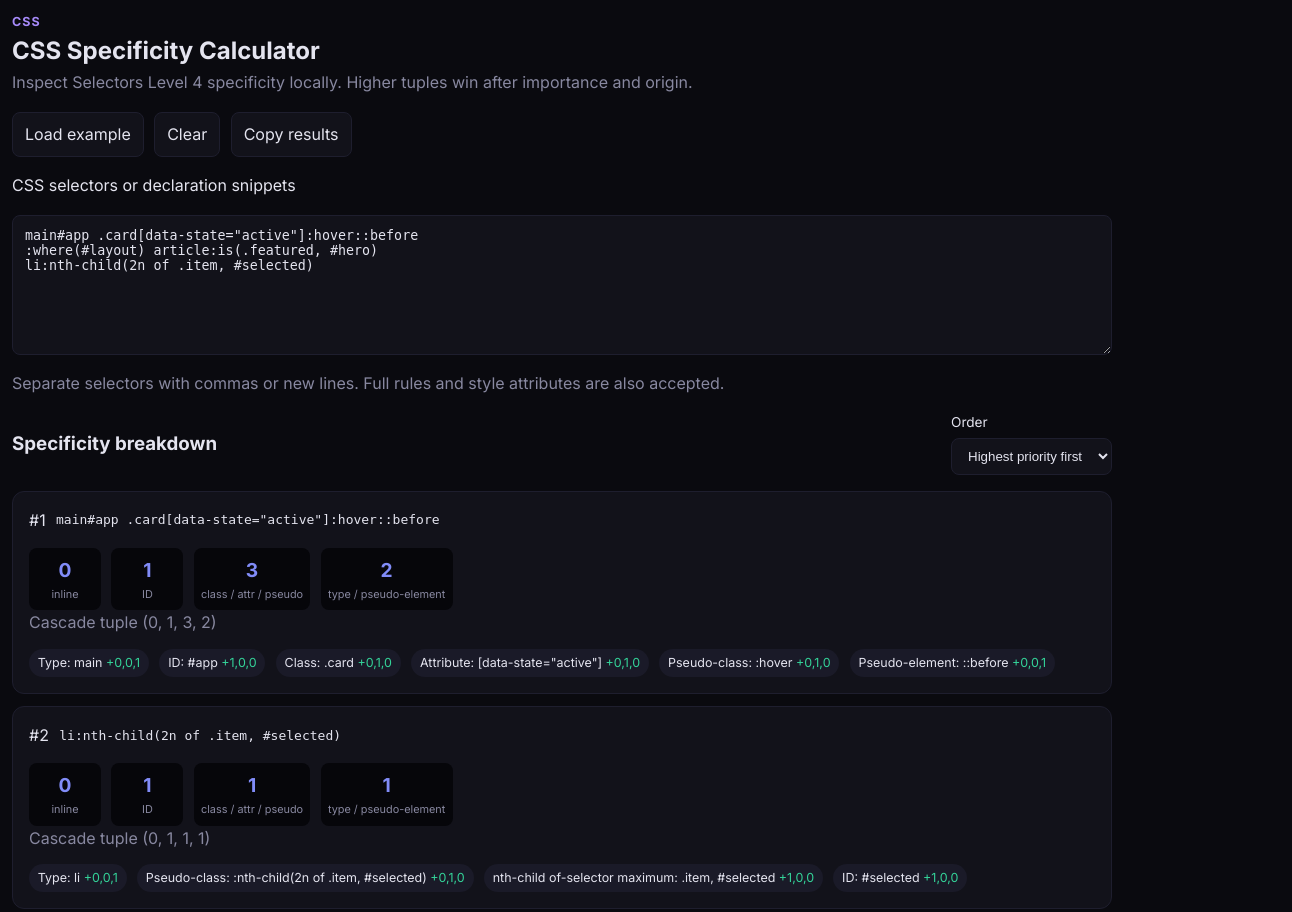
it: CssSpecificityTool › clears input and announces the action through its live region
Click the button "Clear" at (187, 135), box [154,112,220,157]
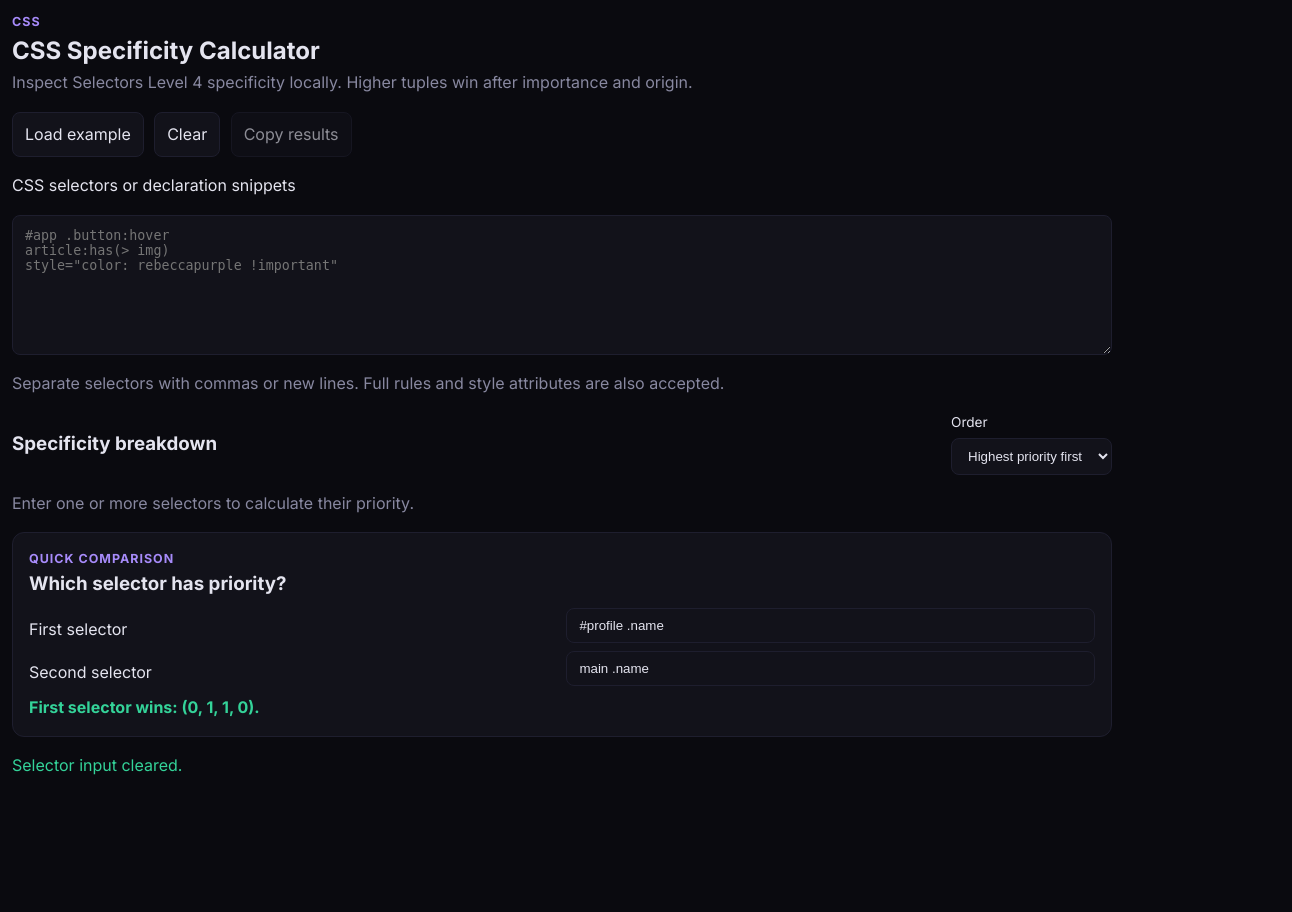
expect the text box labelled "CSS selectors or declaration snippets" is empty: met, box [12,215,1112,355]
expect the message reads "Selector input cleared.": met, box [12,755,182,775]
